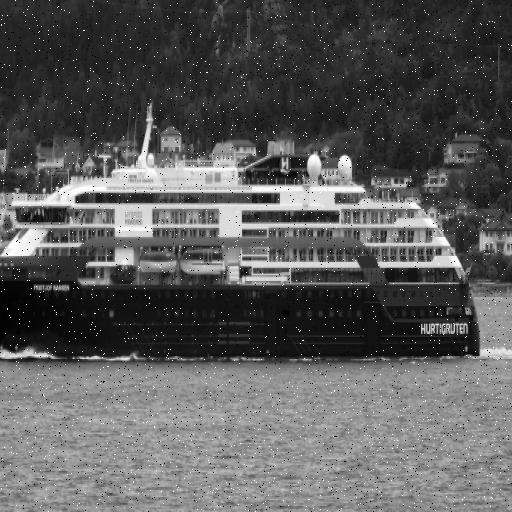cruises: (1, 101, 486, 376)
